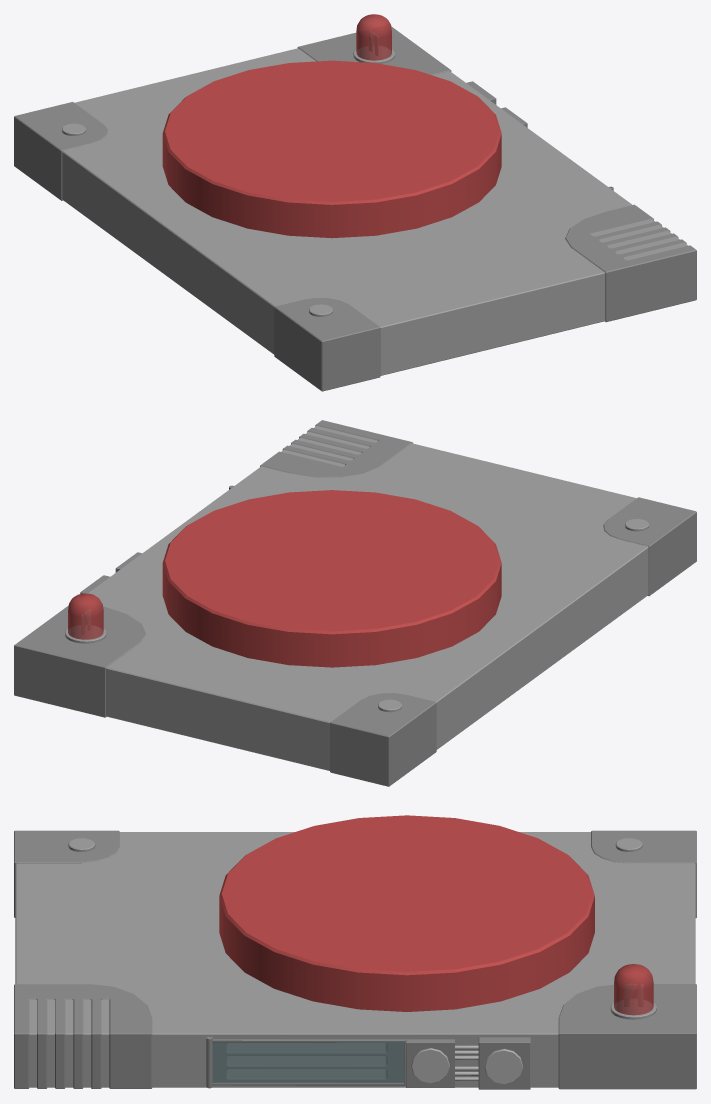
The model's file is BoomButton_01_1.fbx.
3 renders of one model, top to bottom at view 1: azimuth 30°, elevation 25°; view 2: azimuth 150°, elevation 25°; view 3: azimuth 270°, elevation 25°, orthographic. The views are drawn at different scales.
Visible parts, largest first — view 1: BoomButton_01; view 2: BoomButton_01; view 3: BoomButton_01.
Boxes of the visible parts, left/top/right/bottom form: BoomButton_01: left=14, top=14, right=696, bottom=391; BoomButton_01: left=14, top=420, right=696, bottom=786; BoomButton_01: left=14, top=815, right=696, bottom=1089.
Size of the model in its own units: 8.52 by 1.94 by 11.77.
